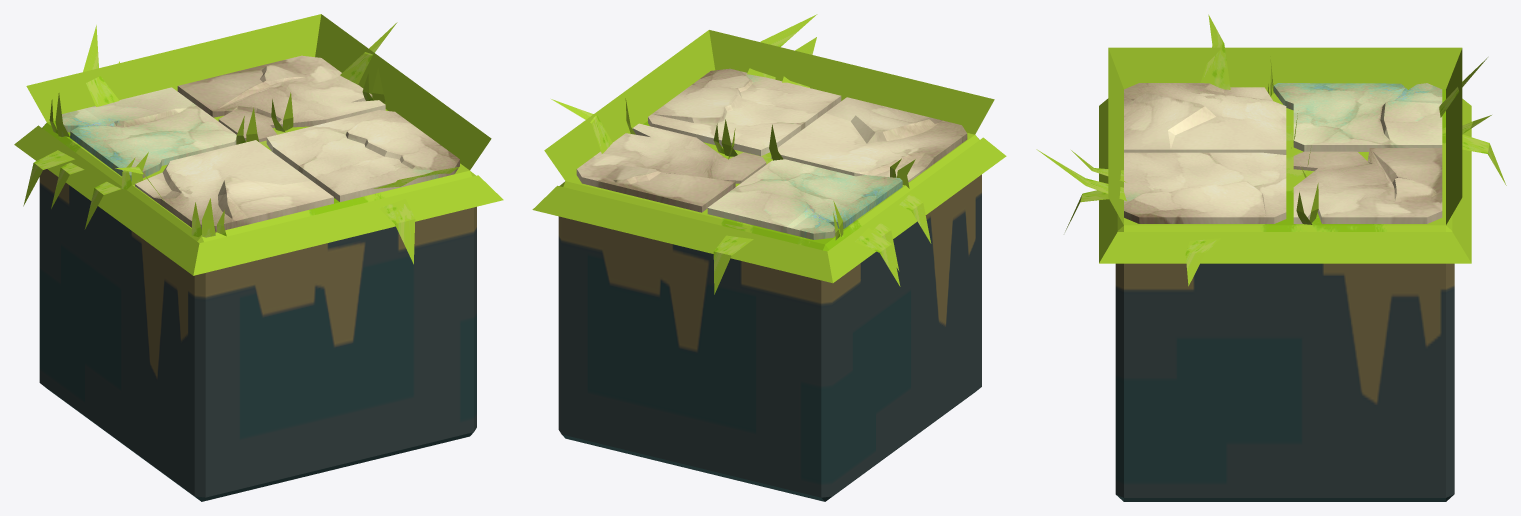
File: tilegrass003.glb
3 renders of one model, left to right at view 1: azimuth 30°, elevation 25°; view 2: azimuth 150°, elevation 25°; view 3: azimuth 270°, elevation 25°, orthographic. The views are drawn at different scales.
Parts seen in each view (by area): view 1: tilegrass003; view 2: tilegrass003; view 3: tilegrass003.
Boxes of the visible parts, box(x1,y1,x2,y2) form: tilegrass003: box(14, 14, 503, 501); tilegrass003: box(532, 14, 1006, 501); tilegrass003: box(1036, 14, 1506, 501).
Size of the model in its own units: 1.3 by 1.12 by 1.39.
Materials: 2 (2 with a texture image).
